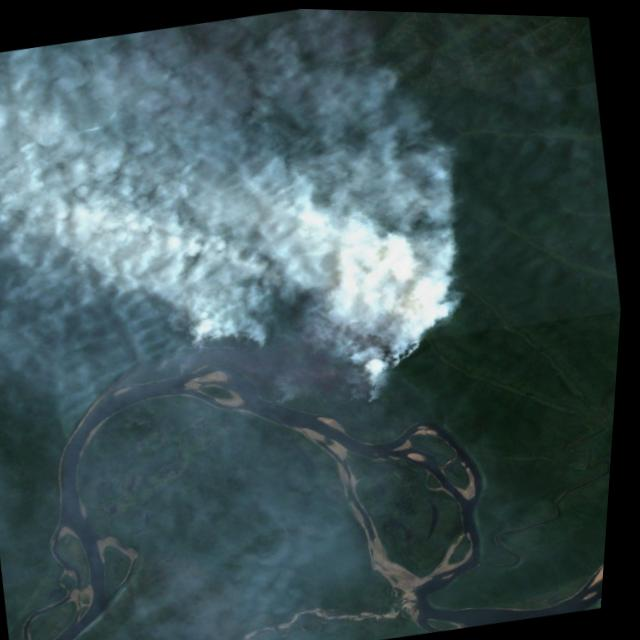fire: (303, 242, 460, 382), (183, 314, 284, 373)
